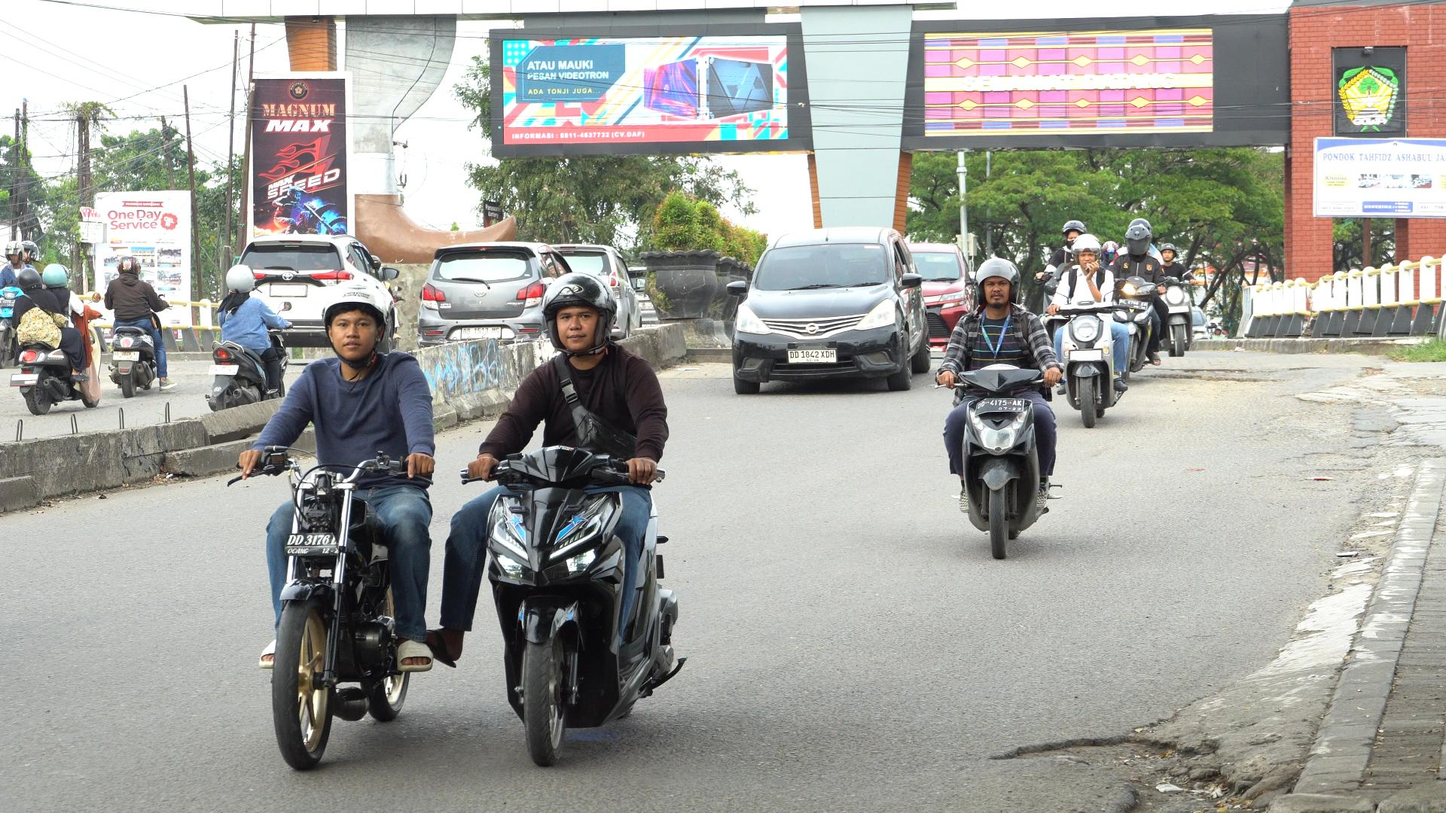number-plate: (967, 396, 1032, 414)
